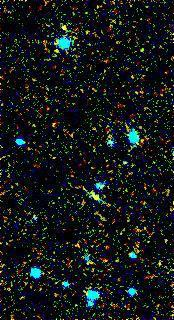star: (47, 12, 77, 42)
